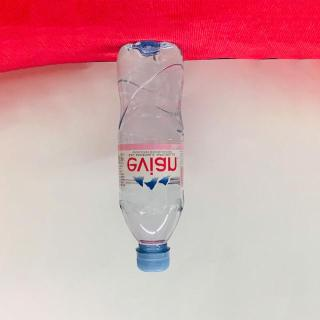Anorganik: (112, 39, 190, 275)
